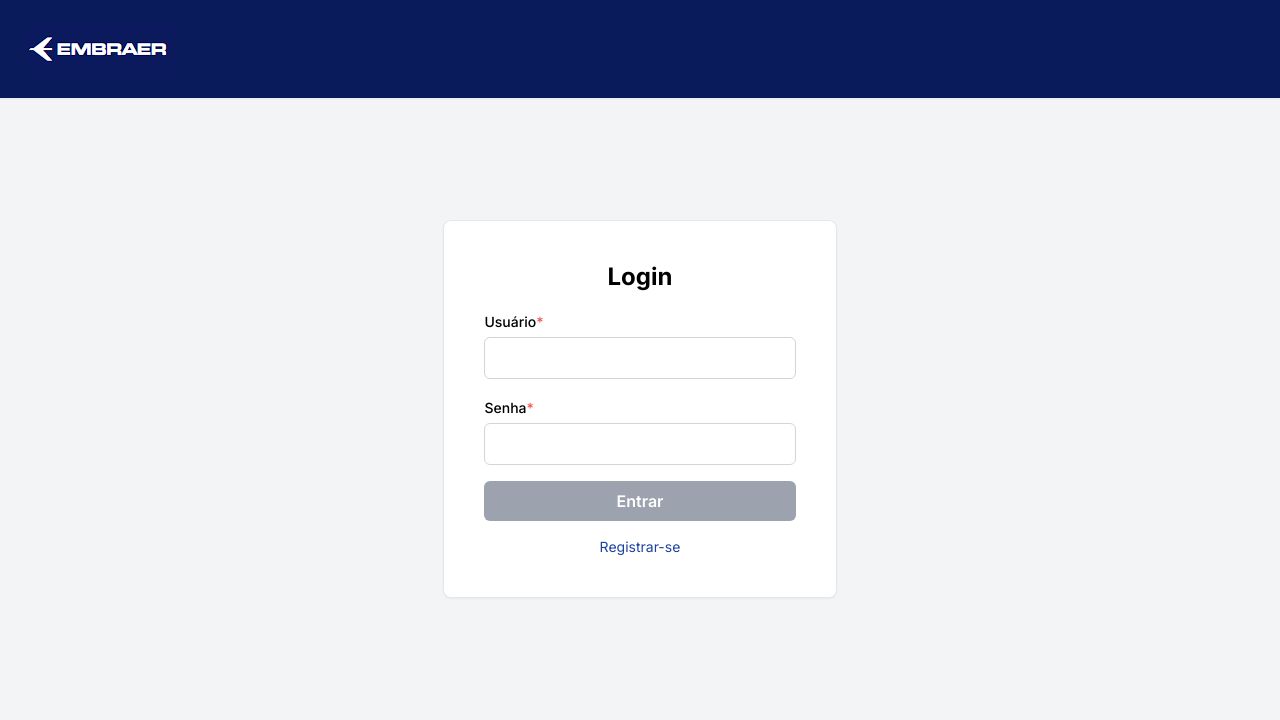
Aplicação de Tarefas - E2E › Editar titulo da tarefa
This screenshot has width=1280, height=720.
Type "teste@teste.com" into the field named "username" at {"x": 641, "y": 358}, box [485, 337, 796, 379]
Type "senha@123" into the password field named "password" at {"x": 641, "y": 444}, box [485, 423, 796, 465]
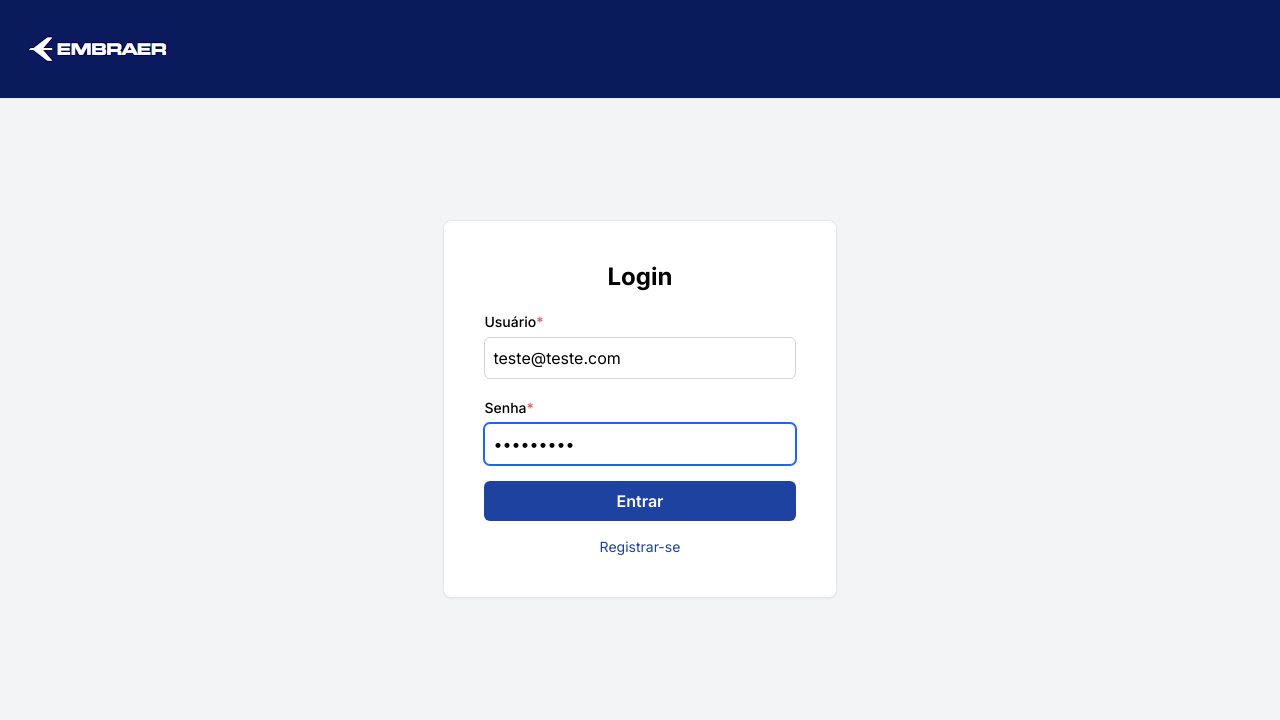
Click the button "Entrar" at {"x": 641, "y": 501}, box [485, 481, 796, 521]
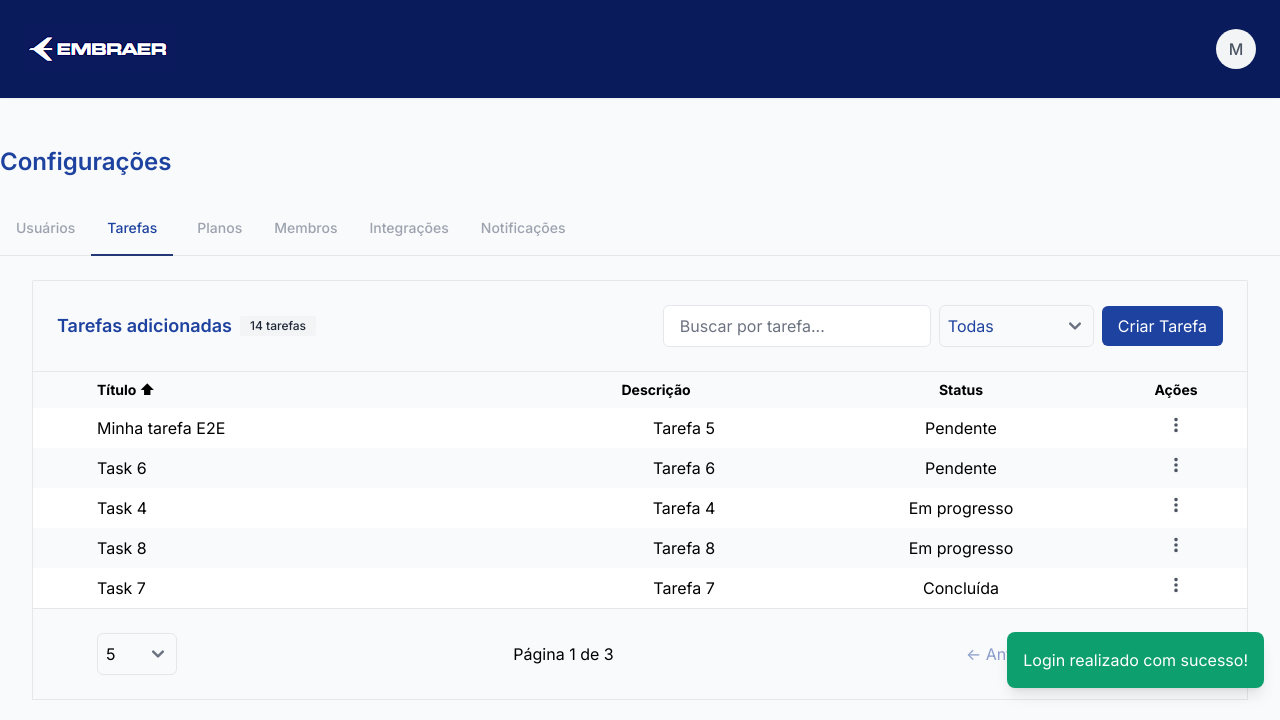
Expected: the text "Minha tarefa E2E" is shown, [32, 408, 495, 448]
Click the button with class "button-complete" in the row of "Minha tarefa E2E" at {"x": 1176, "y": 425}, box [1167, 416, 1185, 434]
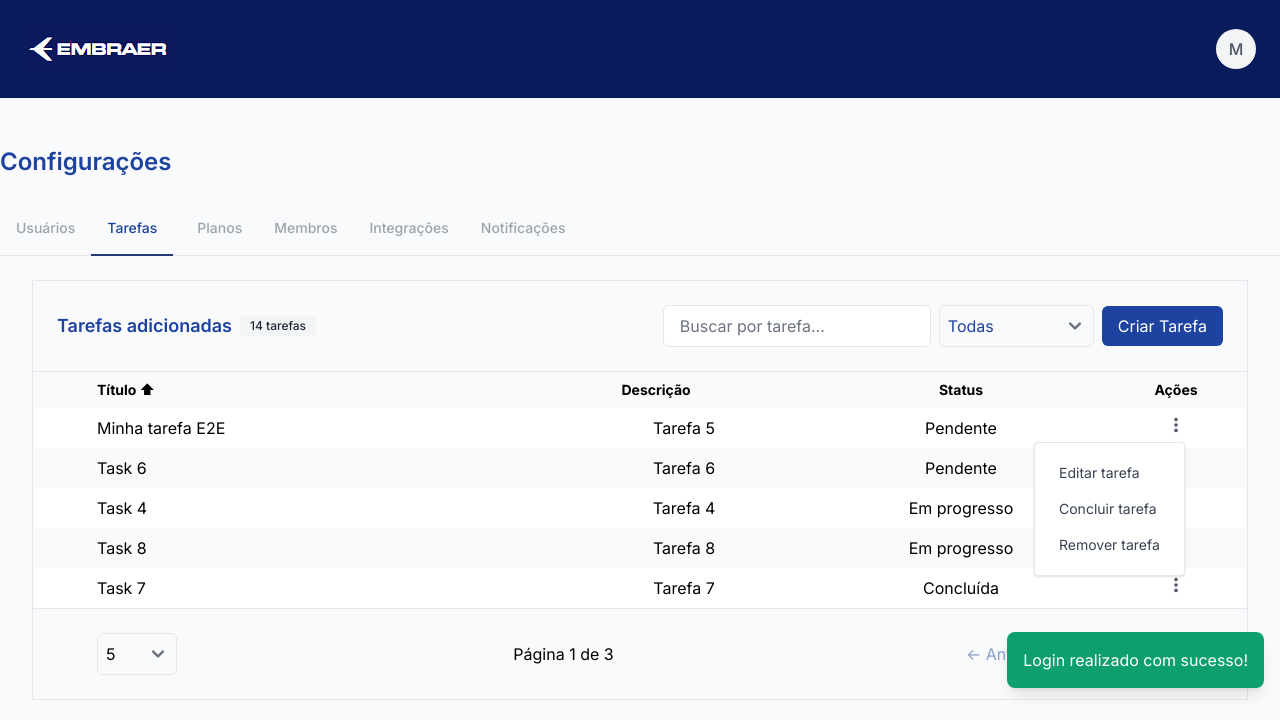
Click the button with test id "dropdown-edit" at {"x": 1110, "y": 473}, box [1043, 455, 1176, 491]
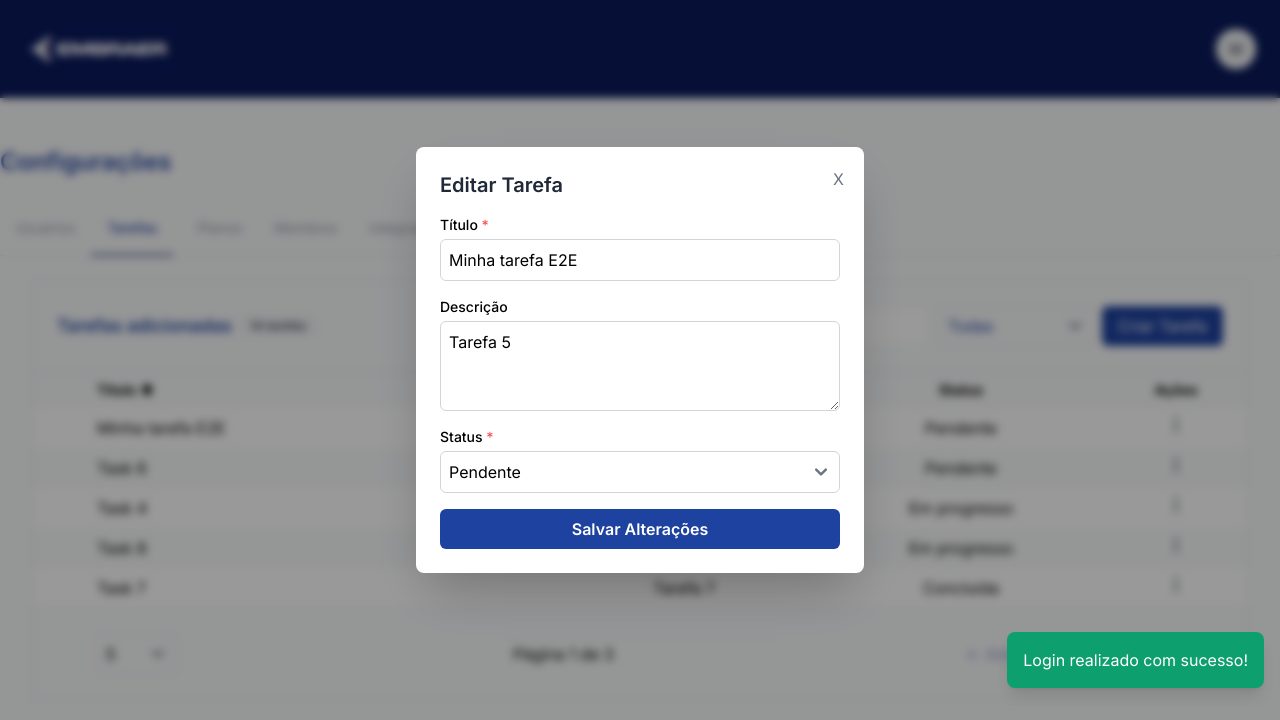
Expected: the heading "Editar Tarefa" is shown, [440, 173, 563, 197]
Expected: the field named "title" holds "Minha tarefa E2E"
Replace the text in the field named "title" with "Título editado" at {"x": 640, "y": 260}, box [440, 239, 840, 281]
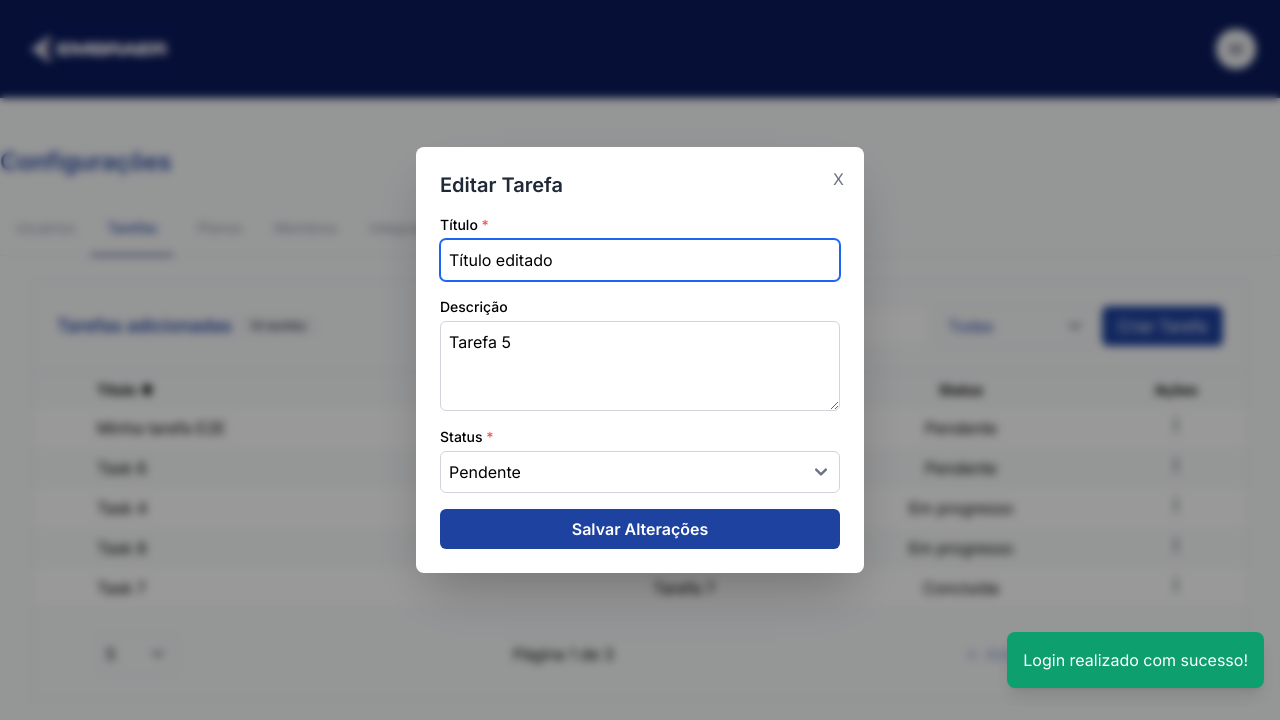
Click the button "Salvar Alterações" at {"x": 640, "y": 529}, box [440, 509, 840, 549]
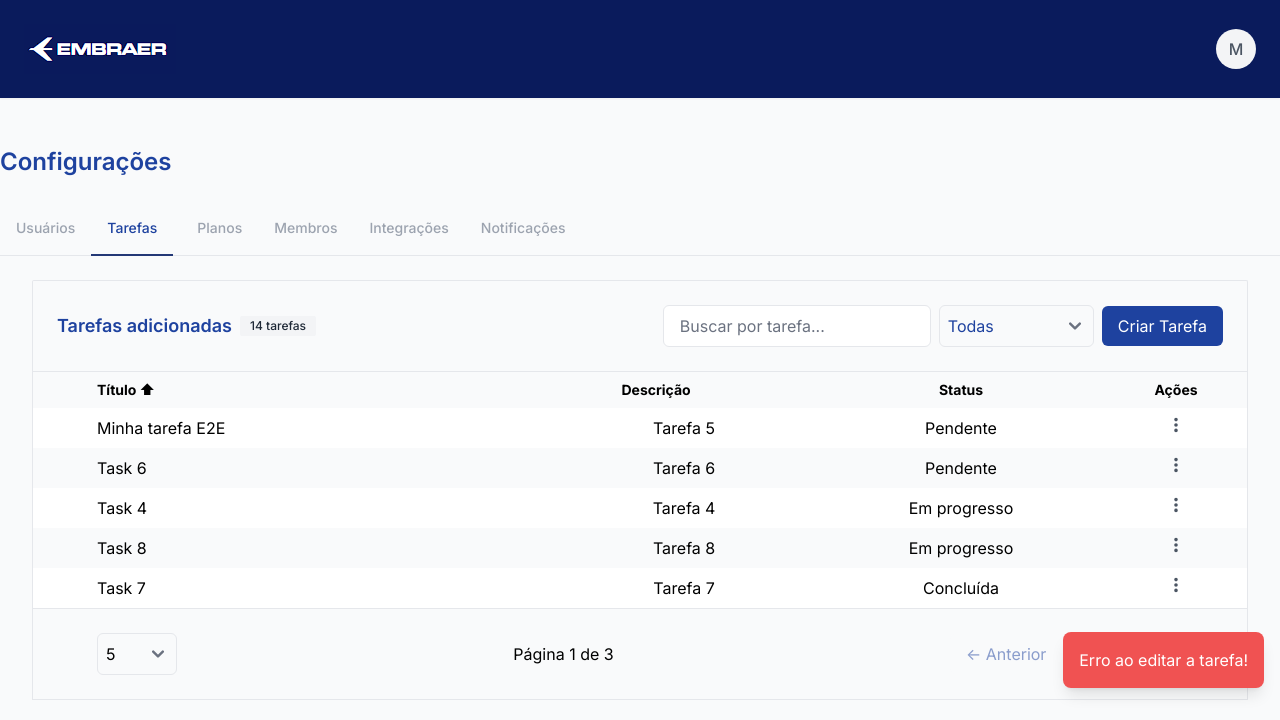
Expected: the heading with class "mb-4" is gone
